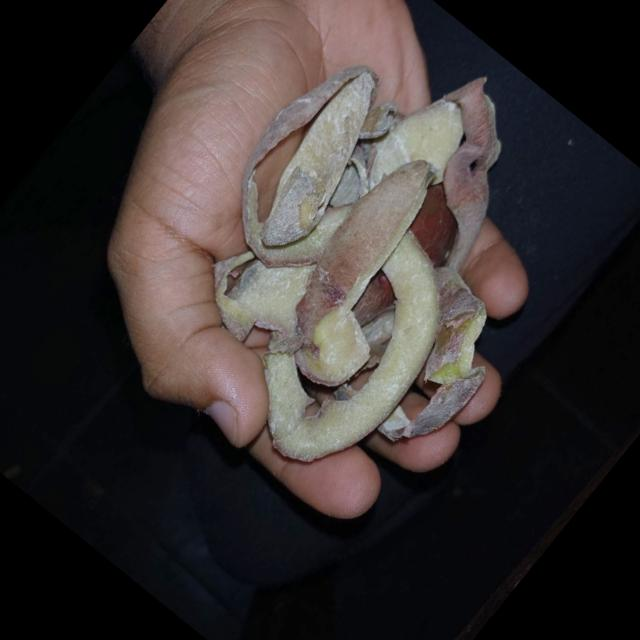organic: (110, 0, 636, 528)
